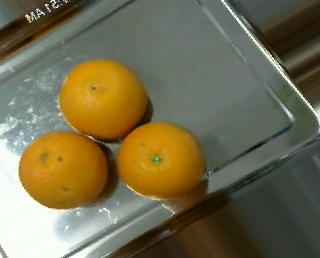Orange: (16, 130, 107, 211), (57, 58, 147, 139), (115, 120, 206, 200)
